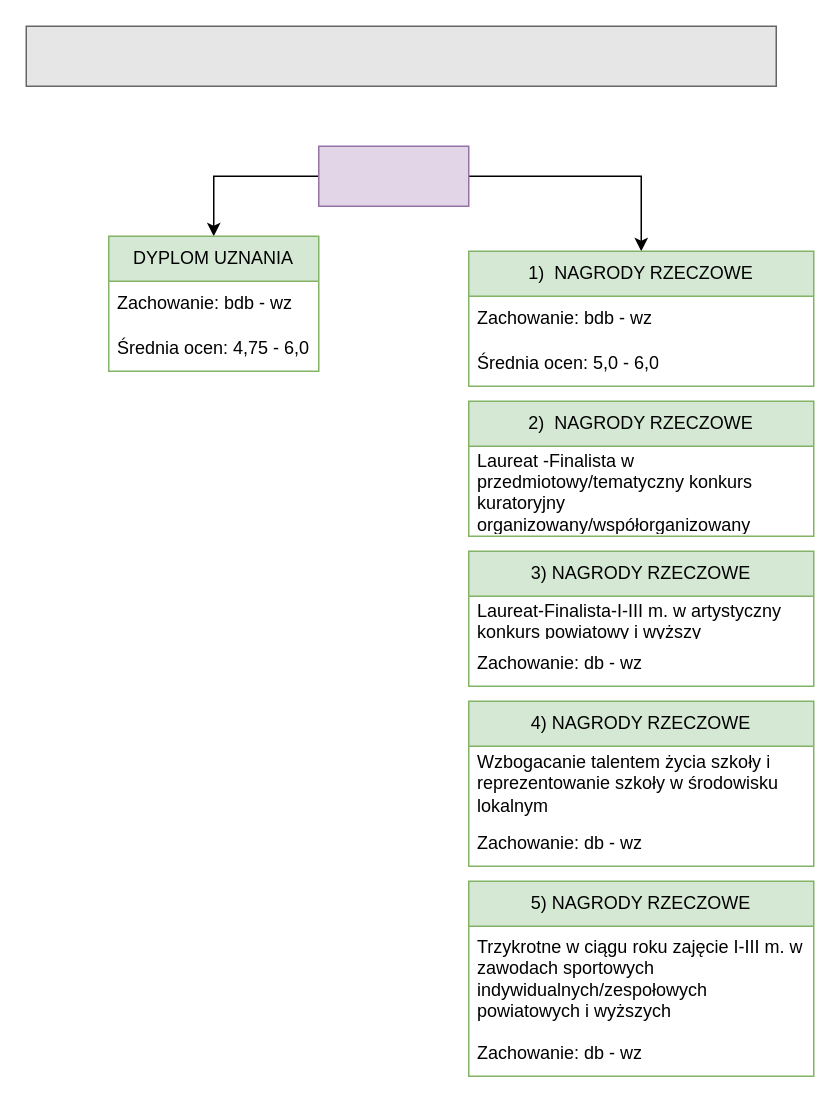
The diagram is 840 pixels wide and 1103 high, and some of its shapes have lost their labels. The centre of each missing label's shape, as x and y in pixels:
KLASY 4-7: (393,175)
WARUNKI PRZYZNAWANIA NAGRÓD KOŃCOWOROCZNYCH: (400,55)
